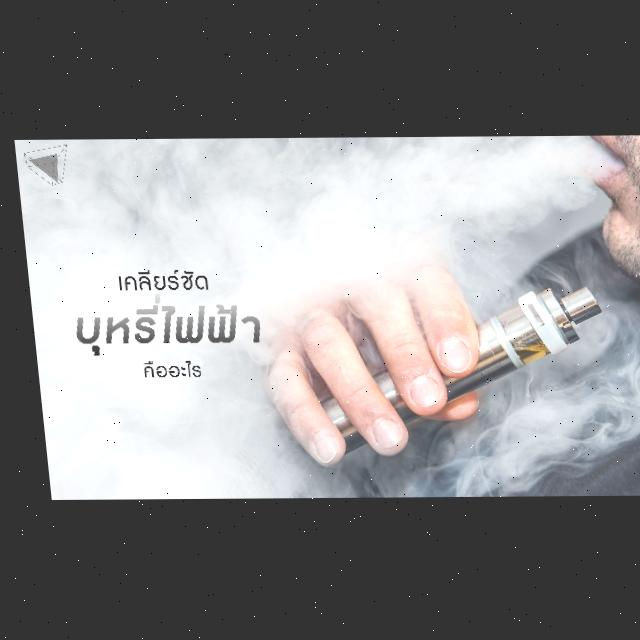vape: (302, 287, 607, 454)
